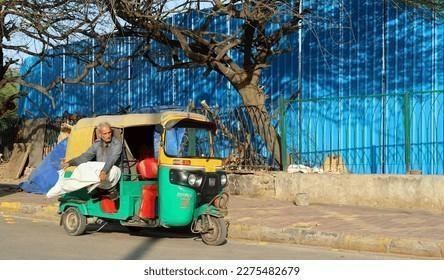keke: (66, 112, 234, 248)
